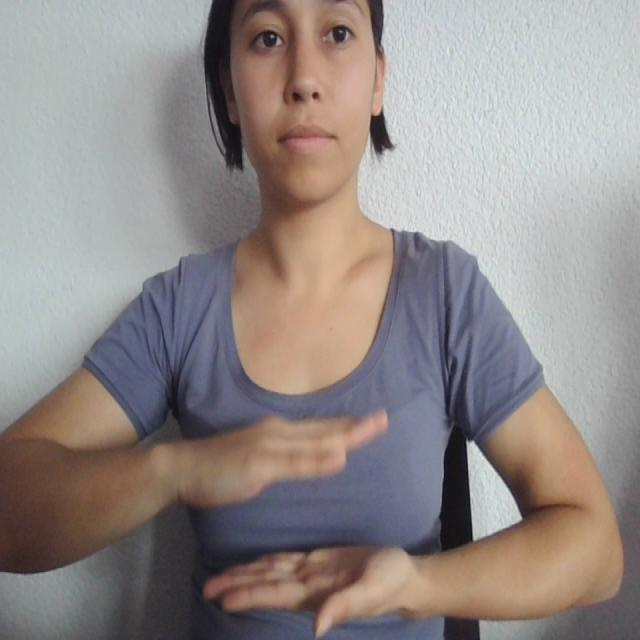Arkadas: (85, 406, 581, 640)
